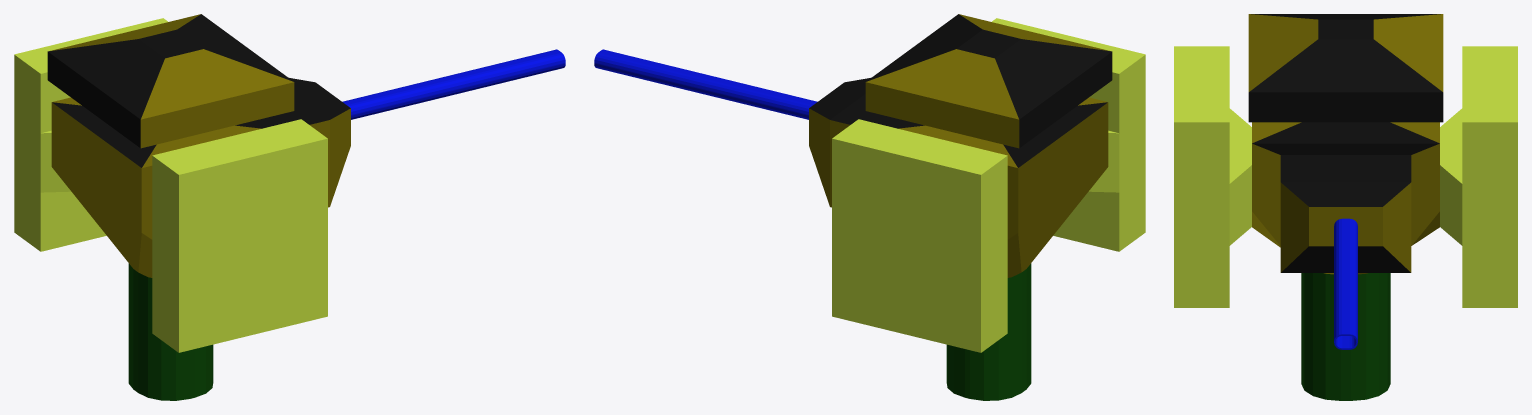
Rendered from Gun.fbx.
3 renders of one model, left to right at view 1: azimuth 30°, elevation 25°; view 2: azimuth 150°, elevation 25°; view 3: azimuth 270°, elevation 25°, orthographic. The views are drawn at different scales.
Visible parts, largest first — view 1: Cube.001; view 2: Cube.001; view 3: Cube.001.
Boxes of the visible parts, x1=… form: Cube.001: x1=14, y1=14, x2=565, y2=400; Cube.001: x1=594, y1=14, x2=1145, y2=400; Cube.001: x1=1174, y1=14, x2=1517, y2=400.
Bounding box in the file's own units: 25.06 × 17.41 × 15.34.
